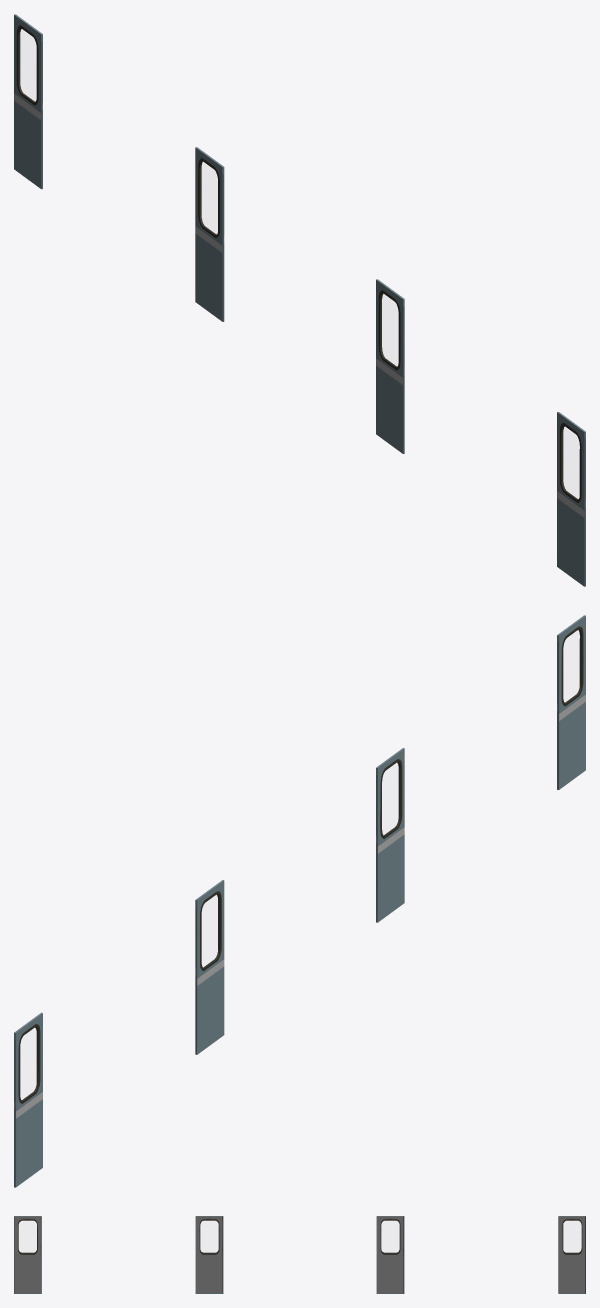
File: SubwayTrain06_DoorR1.FBX
The picture shows the model from 3 angles, top to bottom: view 1: azimuth 30°, elevation 25°; view 2: azimuth 150°, elevation 25°; view 3: azimuth 270°, elevation 25°; orthographic projection. The views are drawn at different scales.
Parts seen in each view (by area): view 1: SubwayTrain06_DoorR1; view 2: SubwayTrain06_DoorR1; view 3: SubwayTrain06_DoorR1.
Boxes of the visible parts, x1,y1,x2,y2 form: SubwayTrain06_DoorR1: [14, 14, 585, 586]; SubwayTrain06_DoorR1: [14, 615, 585, 1187]; SubwayTrain06_DoorR1: [14, 1216, 585, 1293].
Bounding box in the file's own units: 31.8 × 2619 × 17517.
